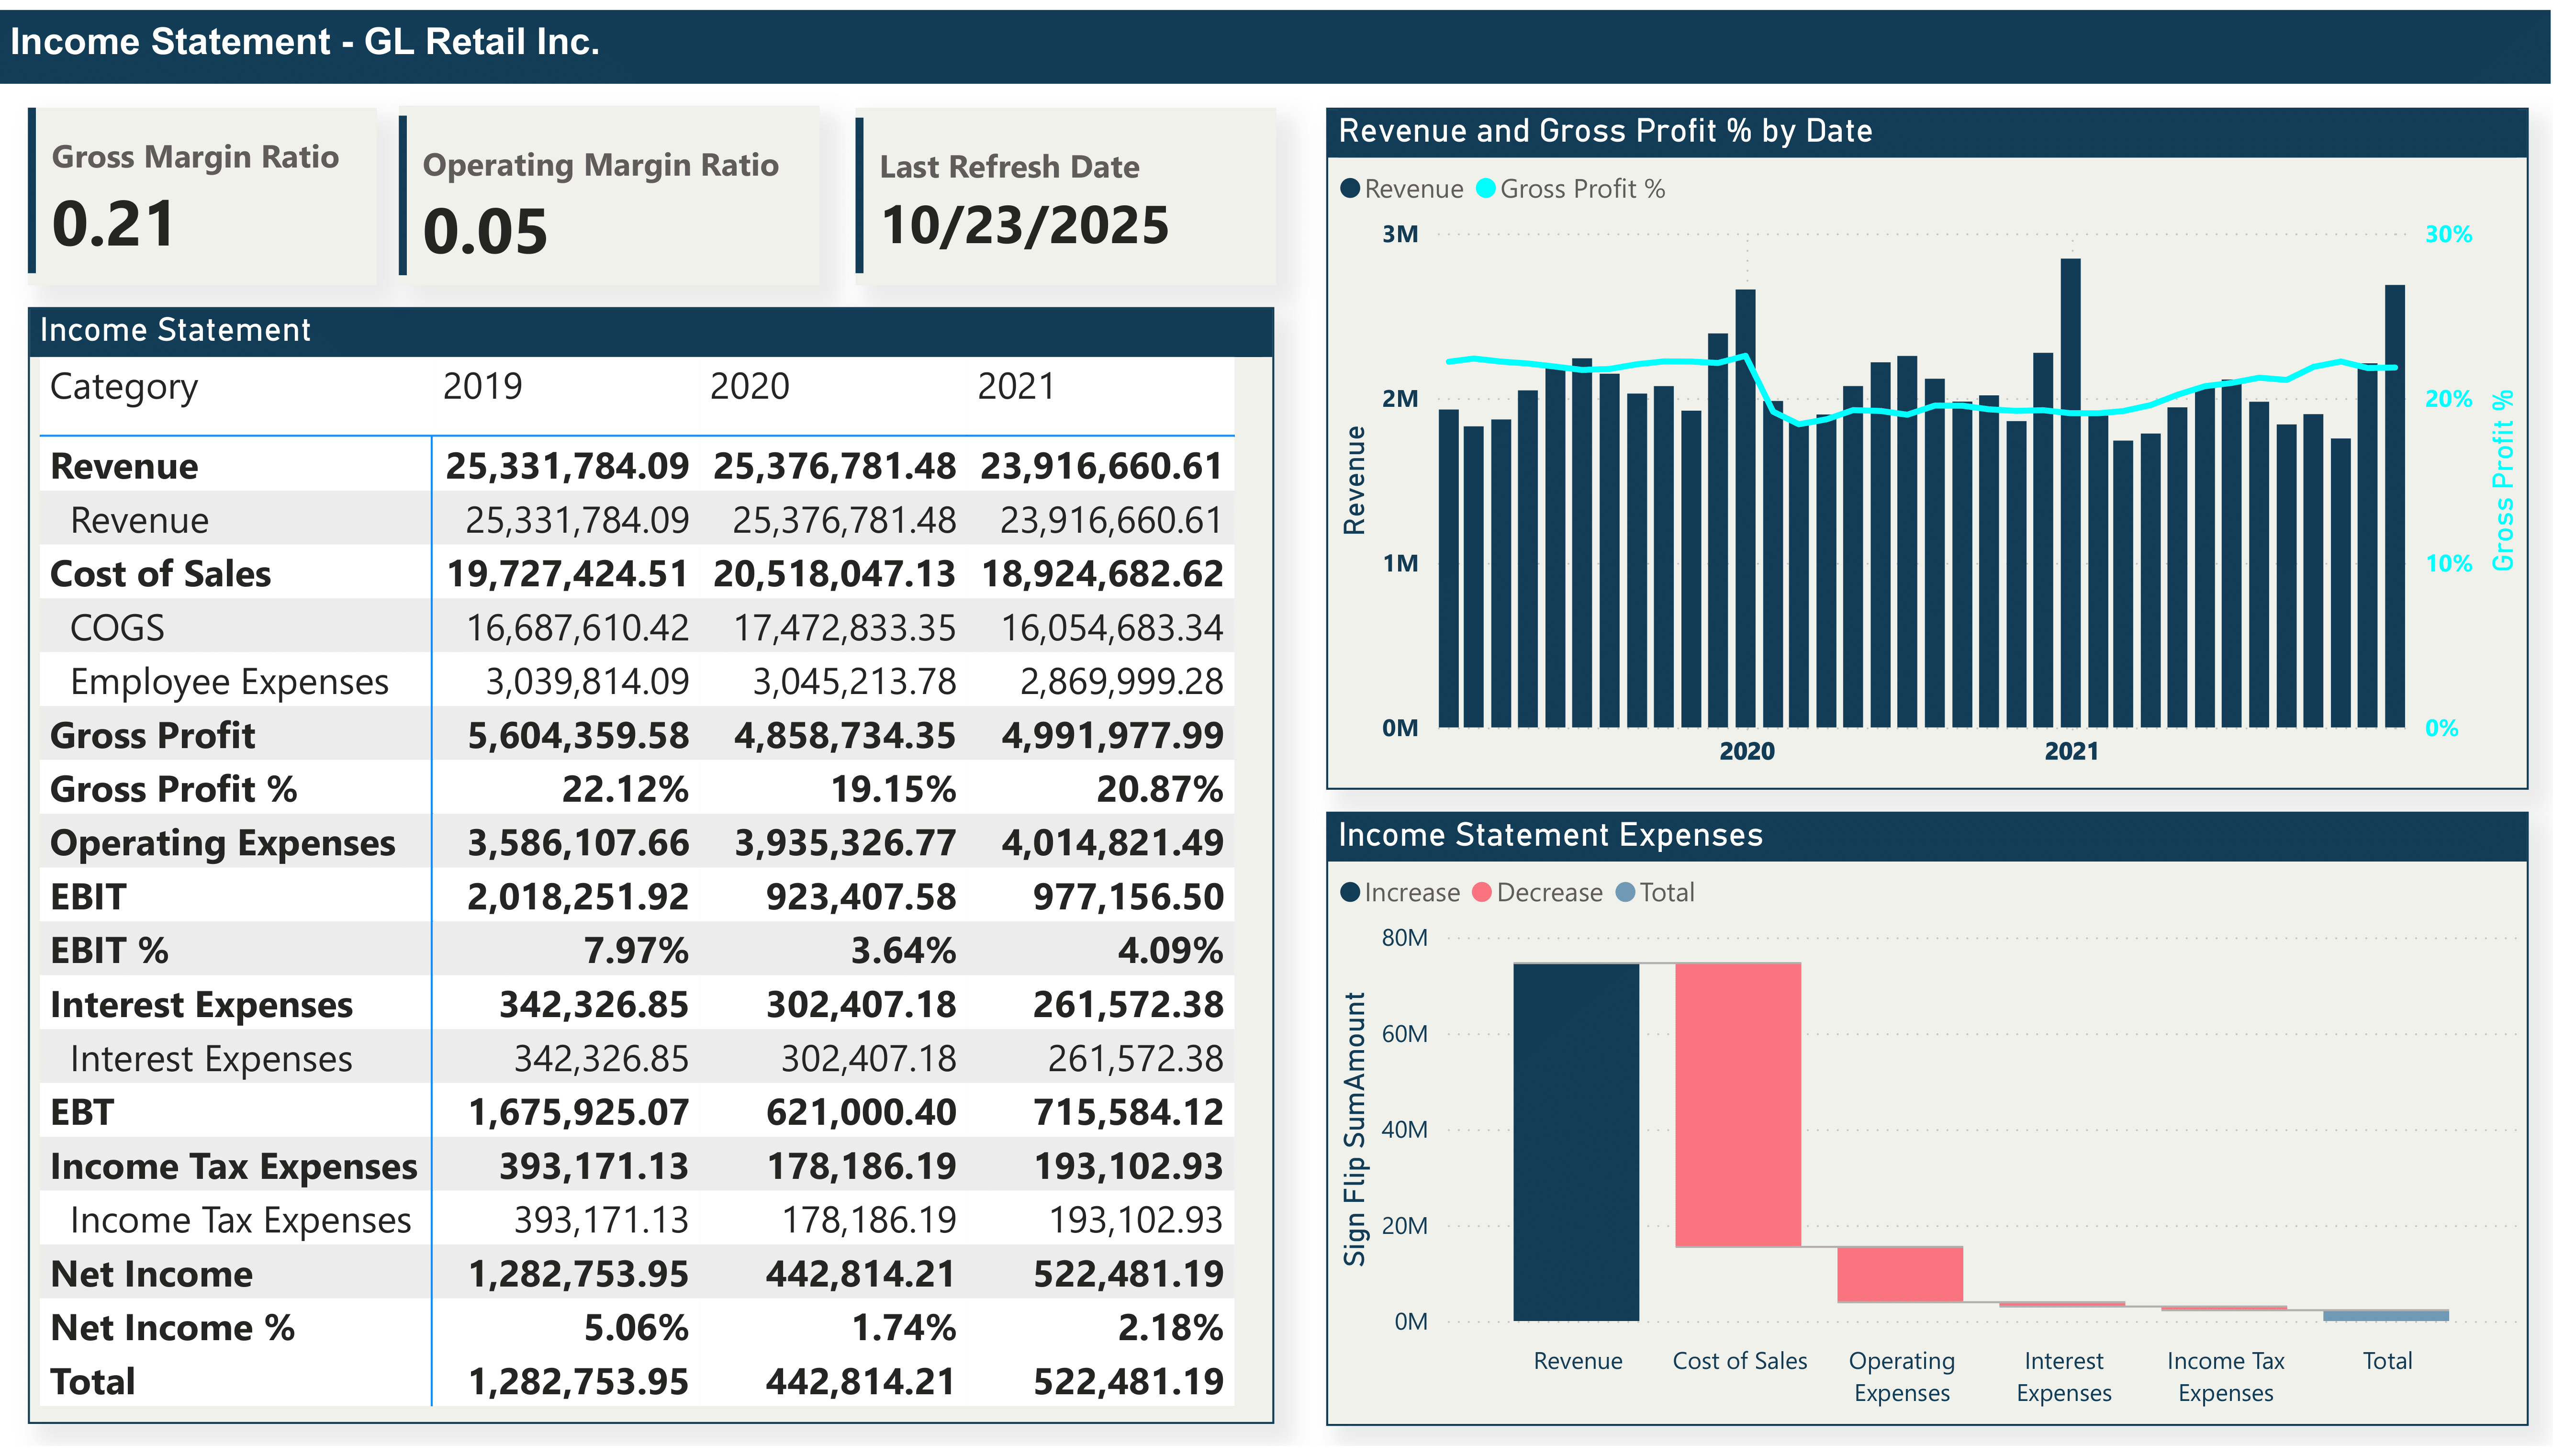

The page's visual inventory and layout, read from the dashboard file:
{"tool":"powerbi","page":{"name":"Income Statement","canvas":[1280,720],"ordinal":0},"visuals":[{"type":"pivotTable","title":"Income Statement","fields":{"Rows":["DimHeaders.Category","DimGLAccts.Subcategory"],"Values":["FactGLTran.Income Statement"],"Columns":["DimDate.Year"]},"box":[14.3,149.2,625.4,560.3],"z":0},{"type":"lineStackedColumnComboChart","fields":{"Y":["FactGLTran.Revenue"],"Y2":["FactGLTran.Gross Profit %"],"Category":["DimDate.Date"]},"box":[664.7,49.3,603.5,342.1],"z":1000},{"type":"waterfallChart","title":"Income Statement Expenses","fields":{"Category":["DimHeaders.Category"],"Y":["FactGLTran.Sign Flip SumAmount"]},"box":[664.7,401.8,603.5,307.7],"z":2000},{"type":"cardVisual","fields":{"Data":["FactGLTran.Gross Margin Ratio"]},"box":[14.3,49.2,174.6,88.9],"z":3000},{"type":"cardVisual","fields":{"Data":["FactGLTran.Operating Margin Ratio"]},"box":[200,47.6,211.1,90.5],"z":4000},{"type":"textbox","box":[0,0,1279.4,36.5],"z":5000},{"type":"cardVisual","fields":{"Data":["FactGLTran.Last Refresh Date"]},"box":[428.6,49.2,211.1,88.9],"z":6000}]}

Visuals, with their boxes in screenshot pixels (x1, y1, x2, y2), scaled from the page's 1280x720 canvas onto the 2553x1456 screenshot:
"Income Statement" pivotTable: (29,302,1276,1435)
lineStackedColumnComboChart - FactGLTran.Revenue x FactGLTran.Gross Profit %: (1326,100,2530,792)
"Income Statement Expenses" waterfallChart: (1326,813,2530,1435)
cardVisual - FactGLTran.Gross Margin Ratio: (29,100,377,279)
cardVisual - FactGLTran.Operating Margin Ratio: (399,96,820,279)
textbox: (0,0,2552,74)
cardVisual - FactGLTran.Last Refresh Date: (855,100,1276,279)
